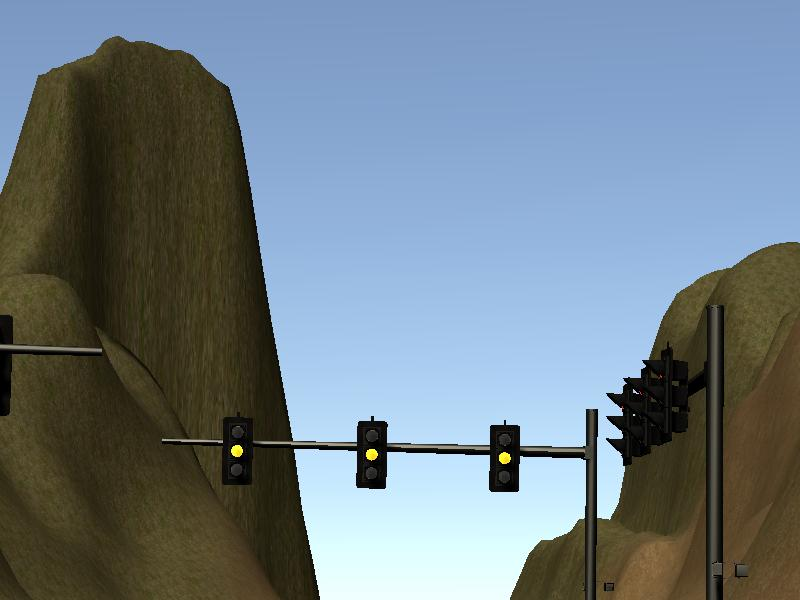Yellow: (490, 425, 521, 492), (224, 412, 252, 485), (358, 419, 387, 489)
